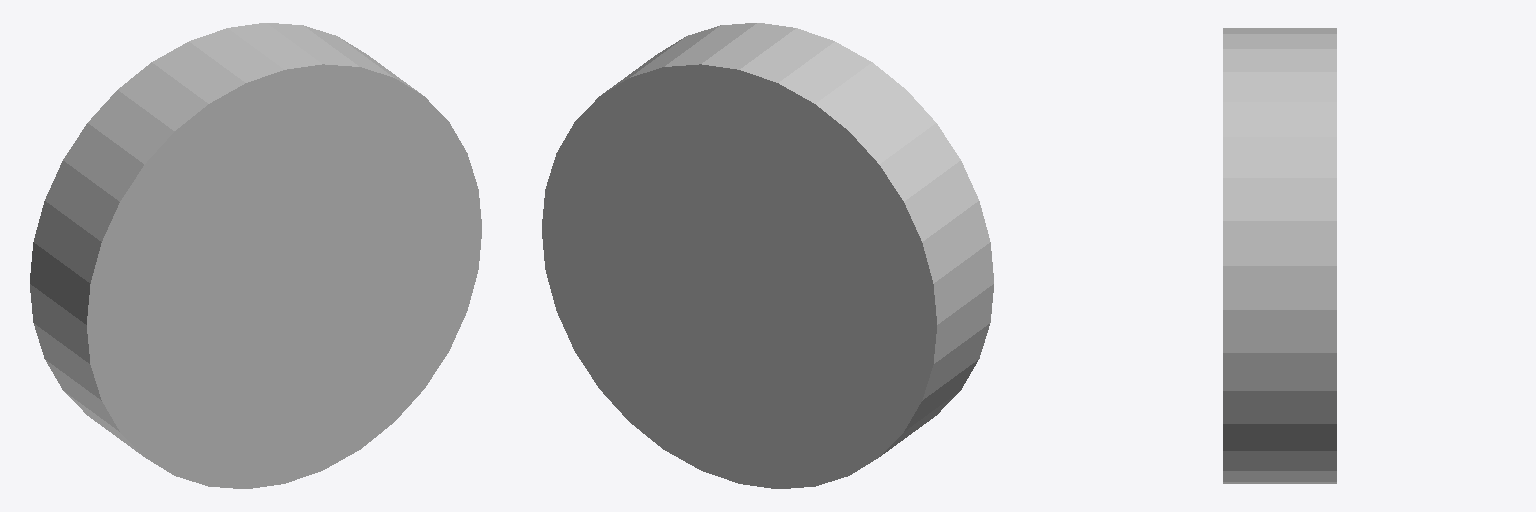
File: tire.obj
3 renders of one model, left to right at view 1: azimuth 30°, elevation 25°; view 2: azimuth 150°, elevation 25°; view 3: azimuth 270°, elevation 25°, orthographic.
Visible parts, largest first — view 1: Cylinder; view 2: Cylinder; view 3: Cylinder.
Part boxes in pixels (x1,y1,x2,y2): Cylinder: (30,23,481,488); Cylinder: (542,23,993,488); Cylinder: (1223,28,1336,483).
Bounding box in the file's own units: 2 × 2 × 0.5.